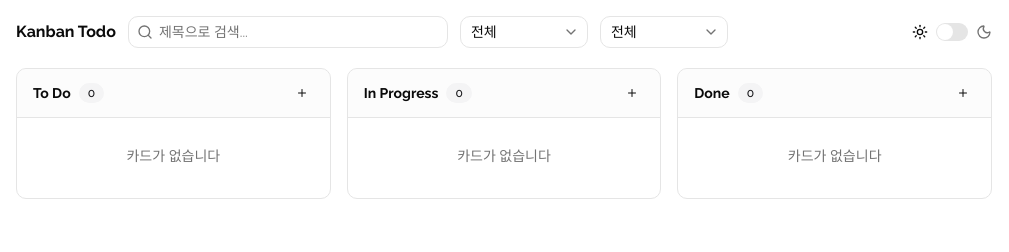
Test case: KANBAN-001: 카드 추가 › example 3: 빈 제목 확인 → 에러 메시지
This screenshot has width=1009, height=252.
Click the button named "추가" in the row of "To Do" at {"x": 302, "y": 93}, box 290,81 -> 314,105
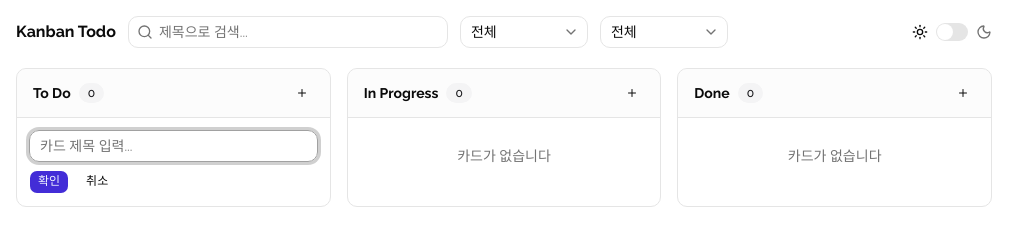
Click the button "확인" at {"x": 49, "y": 182}, box 29,170 -> 69,194
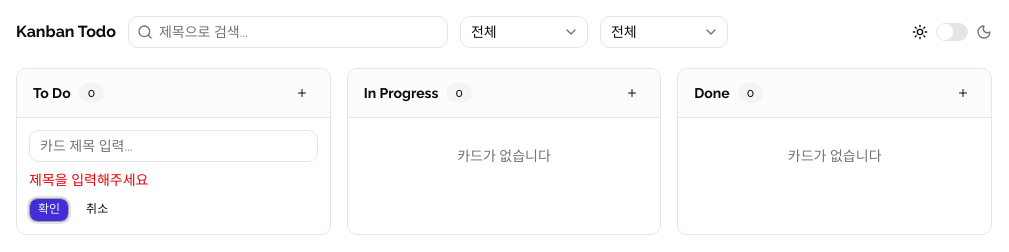
Now the text "제목을 입력해주세요" is shown, box 29,172 -> 148,188
